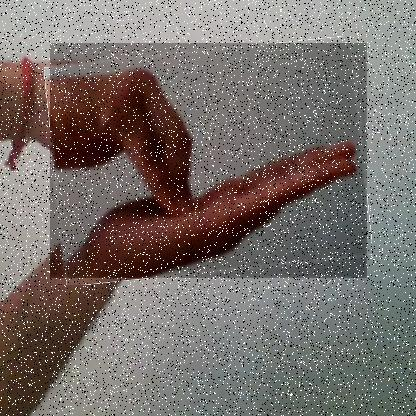Z: (50, 43, 368, 279)
